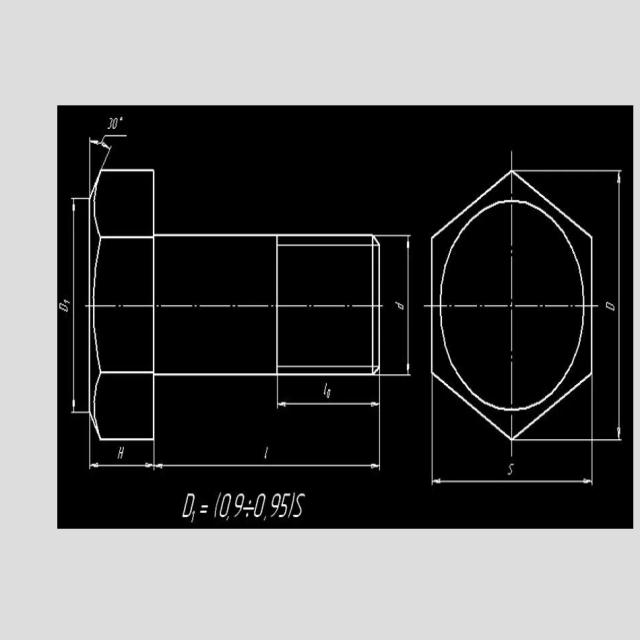marking_line: (154, 461, 380, 472), (616, 173, 624, 440), (69, 201, 78, 411), (79, 132, 119, 172), (433, 476, 591, 485), (278, 398, 381, 411), (91, 459, 152, 478), (405, 238, 413, 376)
numeric: (253, 493, 291, 521), (218, 493, 246, 523), (107, 112, 122, 131)
